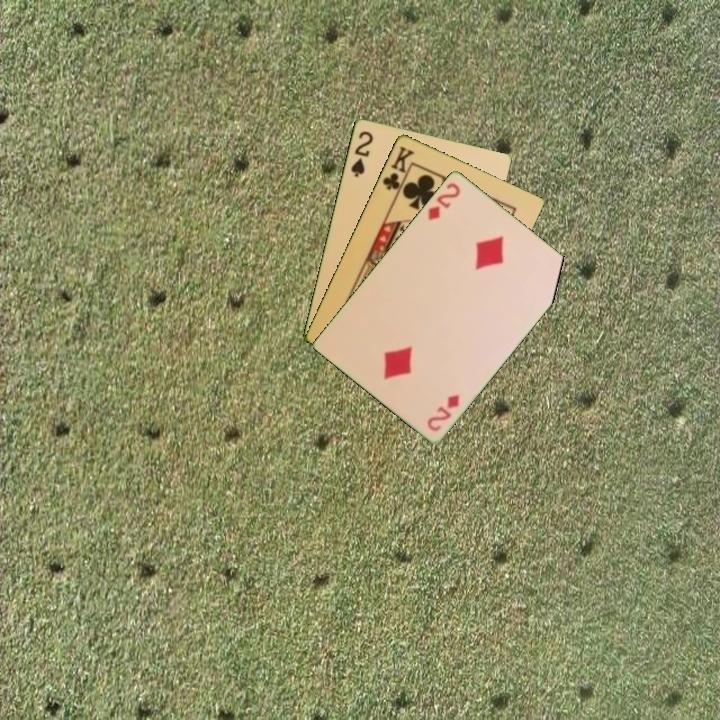2d: (424, 178, 463, 223), (423, 390, 462, 434)
2s: (347, 127, 376, 180)
Kc: (379, 142, 418, 198)
